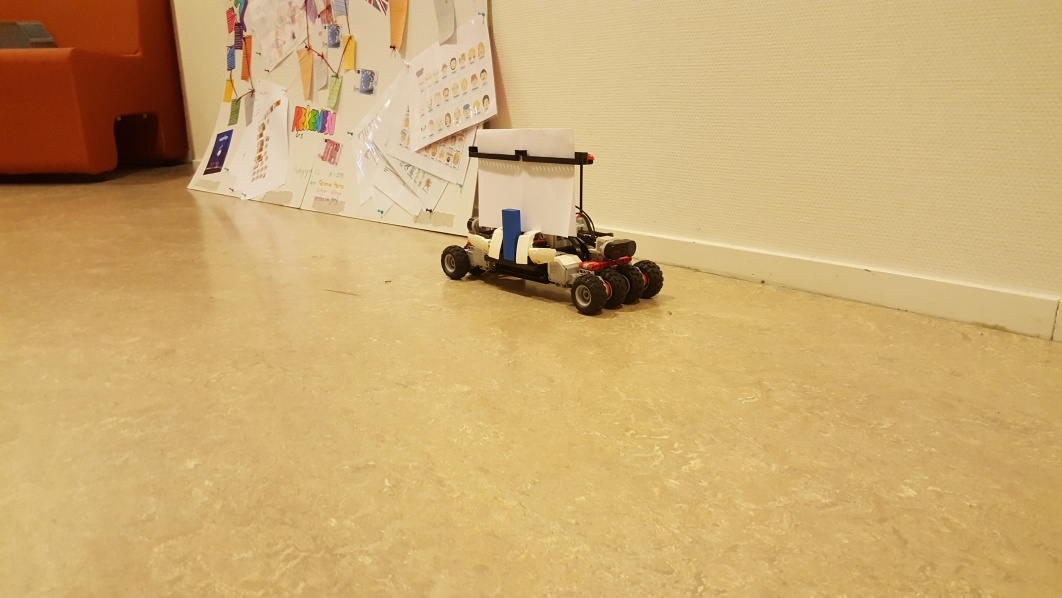car: (441, 126, 665, 316)
